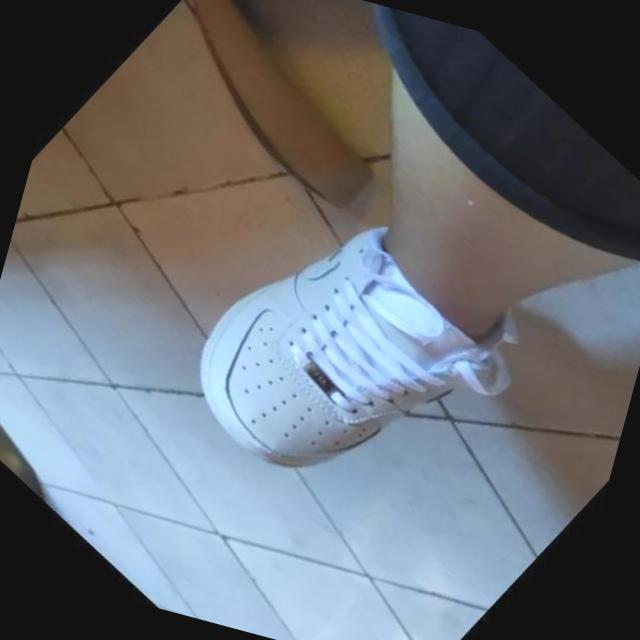nike_fake_airforce: (135, 128, 566, 574)
